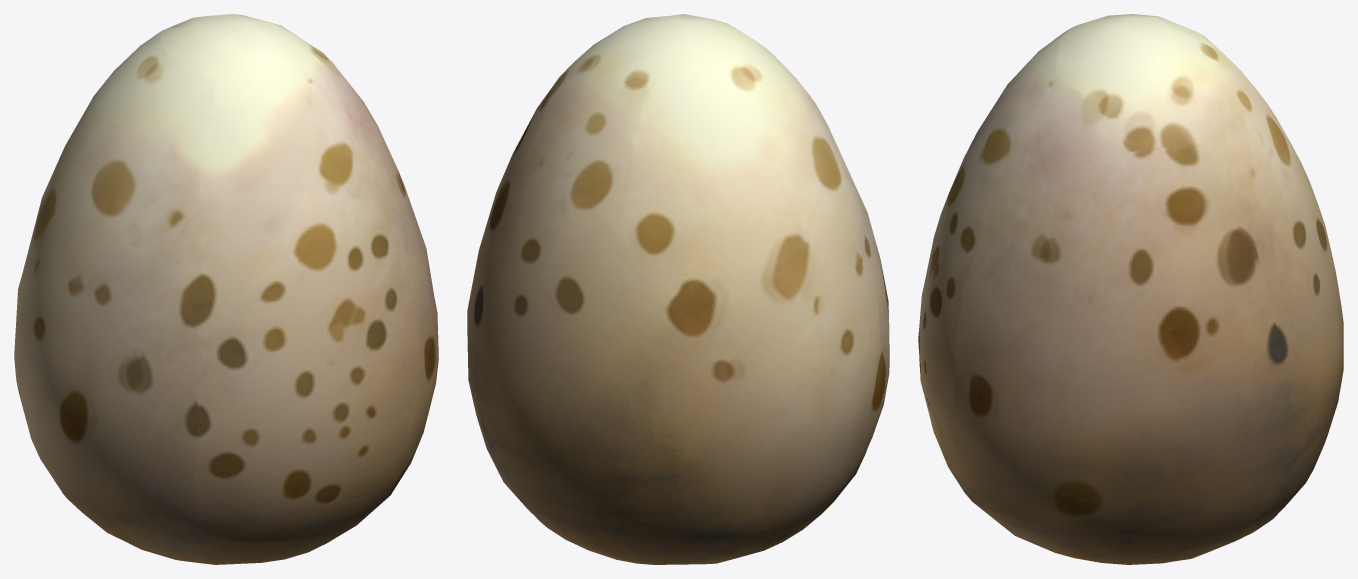
The model's file is Egg.glb.
3 views of the same model, side by side, from view 1: azimuth 30°, elevation 25°; view 2: azimuth 150°, elevation 25°; view 3: azimuth 270°, elevation 25° (orthographic).
Bounding box in the file's own units: 1.53 × 1.99 × 1.54.
1 material, 1 textured.
